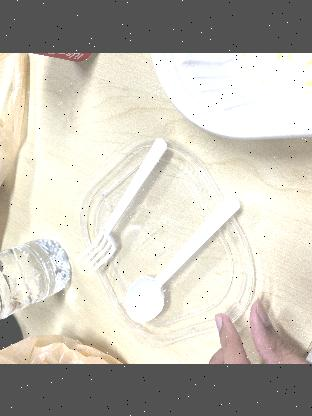Others: (121, 194, 242, 322), (78, 138, 166, 282)
